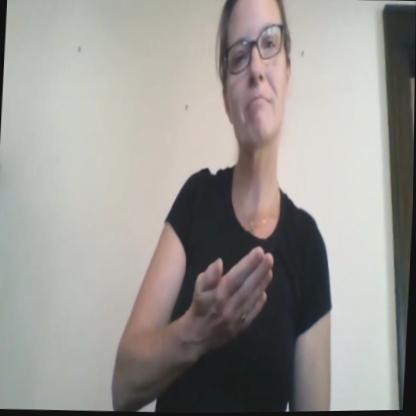ThankYou: (163, 0, 333, 373)
